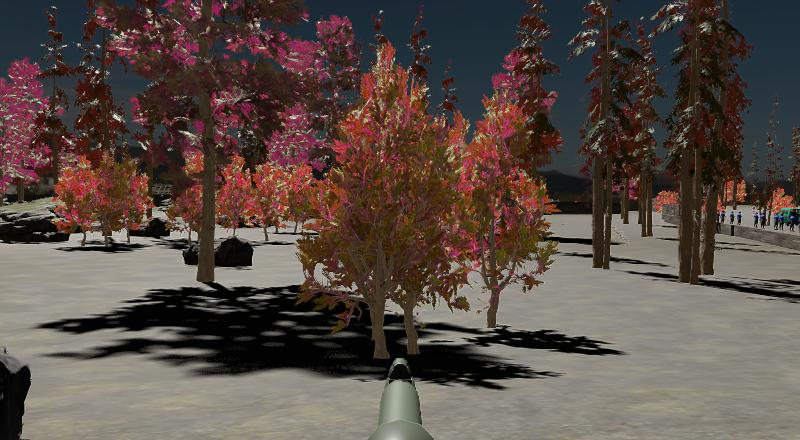Tank: (0, 291, 33, 440)
car: (774, 207, 800, 229)
